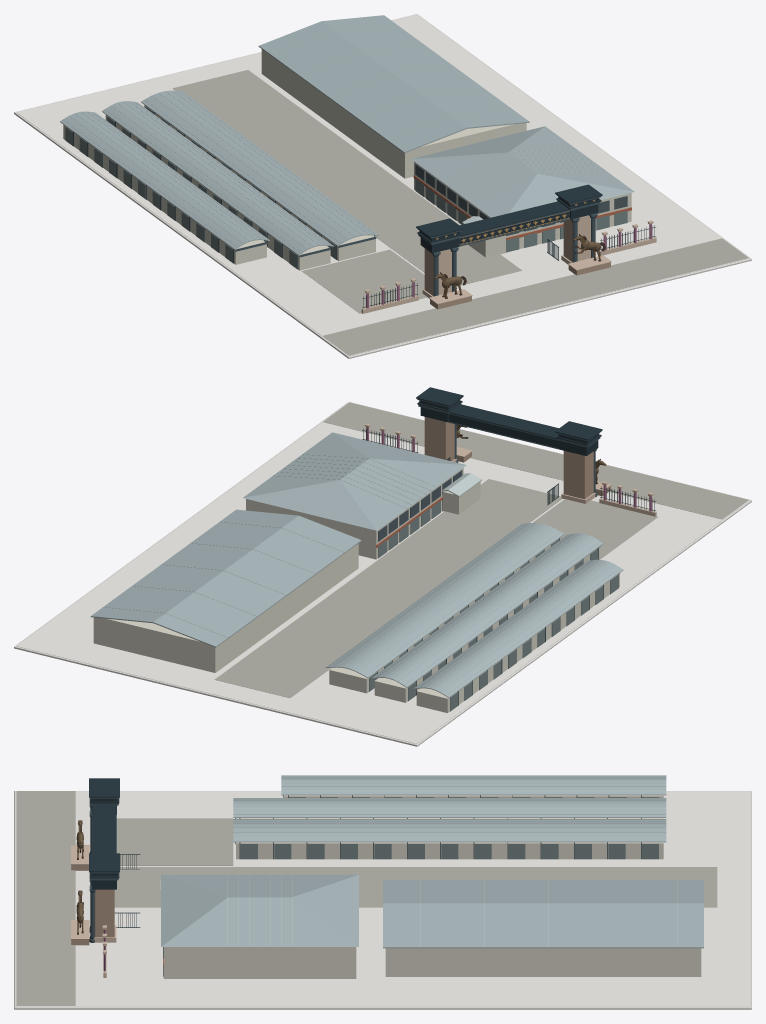
File: auyl-bereke.glb
The picture shows the model from 3 angles, top to bottom: view 1: azimuth 30°, elevation 25°; view 2: azimuth 150°, elevation 25°; view 3: azimuth 270°, elevation 25°; orthographic projection. The views are drawn at different scales.
Visible parts, largest first — view 1: auyl-bereke_auyl_roof, auyl-bereke_auyl_road, auyl-bereke_chalk, auyl-bereke_auyl_wall, auyl-bereke_auyl_gate, auyl-bereke_auyl_roof_light, auyl-bereke_auyl_stall, auyl-bereke_stone, auyl-bereke_auyl_pier_light, auyl-bereke_auyl_gate_edge, auyl-bereke_auyl_pier, auyl-bereke_auyl_window (+1 smaller); view 2: auyl-bereke_auyl_roof, auyl-bereke_auyl_road, auyl-bereke_chalk, auyl-bereke_auyl_wall, auyl-bereke_auyl_roof_light, auyl-bereke_auyl_gate, auyl-bereke_stone, auyl-bereke_auyl_stall, auyl-bereke_auyl_pier, auyl-bereke_auyl_gate_edge, auyl-bereke_auyl_pier_light, auyl-bereke_auyl_window; view 3: auyl-bereke_auyl_roof, auyl-bereke_chalk, auyl-bereke_auyl_road, auyl-bereke_auyl_wall, auyl-bereke_auyl_roof_light, auyl-bereke_stone, auyl-bereke_auyl_stall, auyl-bereke_auyl_gate, auyl-bereke_auyl_pier, auyl-bereke_auyl_pier_light, auyl-bereke_auyl_gate_edge, auyl-bereke_auyl_bronze.
Part boxes in pixels (x1,y1,x2,y2): auyl-bereke_auyl_roof: [60, 15, 634, 255]; auyl-bereke_auyl_road: [172, 70, 748, 355]; auyl-bereke_chalk: [16, 14, 749, 355]; auyl-bereke_auyl_wall: [63, 49, 631, 270]; auyl-bereke_auyl_gate: [73, 112, 655, 308]; auyl-bereke_auyl_roof_light: [63, 24, 604, 252]; auyl-bereke_auyl_stall: [65, 107, 627, 268]; auyl-bereke_stone: [14, 14, 751, 358]; auyl-bereke_auyl_pier_light: [361, 211, 656, 313]; auyl-bereke_auyl_gate_edge: [235, 195, 601, 296]; auyl-bereke_auyl_pier: [424, 219, 610, 309]; auyl-bereke_auyl_window: [415, 164, 627, 235]; auyl-bereke_auyl_roof: [90, 432, 623, 697]; auyl-bereke_auyl_road: [214, 402, 748, 697]; auyl-bereke_chalk: [16, 422, 749, 743]; auyl-bereke_auyl_wall: [93, 468, 619, 712]; auyl-bereke_auyl_roof_light: [103, 454, 619, 695]; auyl-bereke_auyl_gate: [362, 387, 655, 705]; auyl-bereke_stone: [14, 402, 751, 746]; auyl-bereke_auyl_stall: [369, 499, 618, 711]; auyl-bereke_auyl_pier: [424, 417, 610, 499]; auyl-bereke_auyl_gate_edge: [417, 398, 620, 573]; auyl-bereke_auyl_pier_light: [364, 423, 656, 516]; auyl-bereke_auyl_window: [378, 470, 462, 541]; auyl-bereke_auyl_roof: [161, 775, 703, 948]; auyl-bereke_chalk: [16, 791, 749, 1006]; auyl-bereke_auyl_road: [16, 791, 717, 1005]; auyl-bereke_auyl_wall: [163, 795, 701, 978]; auyl-bereke_auyl_roof_light: [160, 775, 677, 946]; auyl-bereke_stone: [14, 791, 751, 1009]; auyl-bereke_auyl_stall: [163, 797, 658, 976]; auyl-bereke_auyl_gate: [89, 778, 641, 972]; auyl-bereke_auyl_pier: [71, 865, 114, 945]; auyl-bereke_auyl_pier_light: [71, 845, 116, 977]; auyl-bereke_auyl_gate_edge: [89, 795, 283, 942]; auyl-bereke_auyl_bronze: [76, 820, 83, 933].
Size of the model in its own units: 96 by 15.76 by 138.
